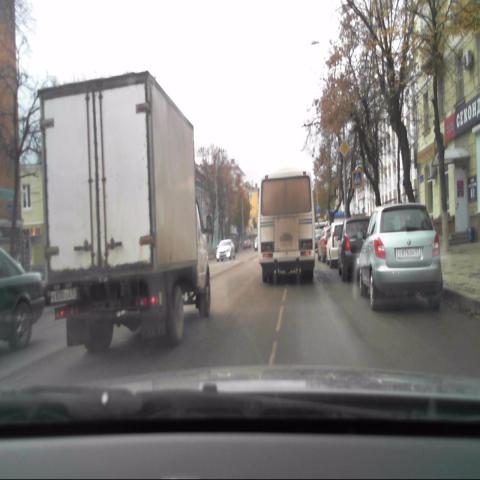2_1: (338, 139, 350, 157)
5_19_1: (352, 170, 363, 188)
